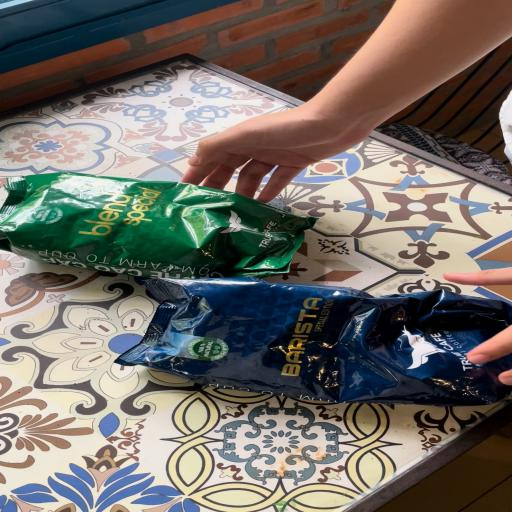cafe_hat: (116, 278, 512, 406)
cafe_xay: (0, 172, 315, 279)
